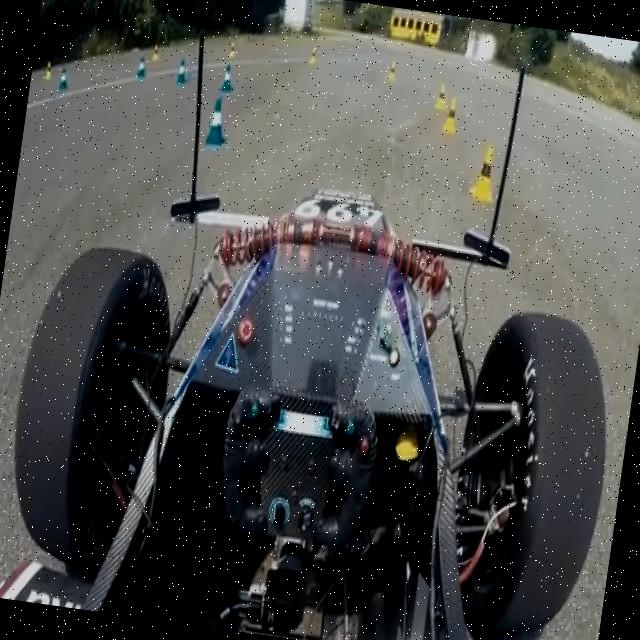blue_cone: (205, 97, 233, 149), (220, 64, 237, 93), (176, 58, 190, 86)
yellow_cone: (468, 144, 502, 204), (442, 98, 460, 136), (434, 83, 448, 111)
